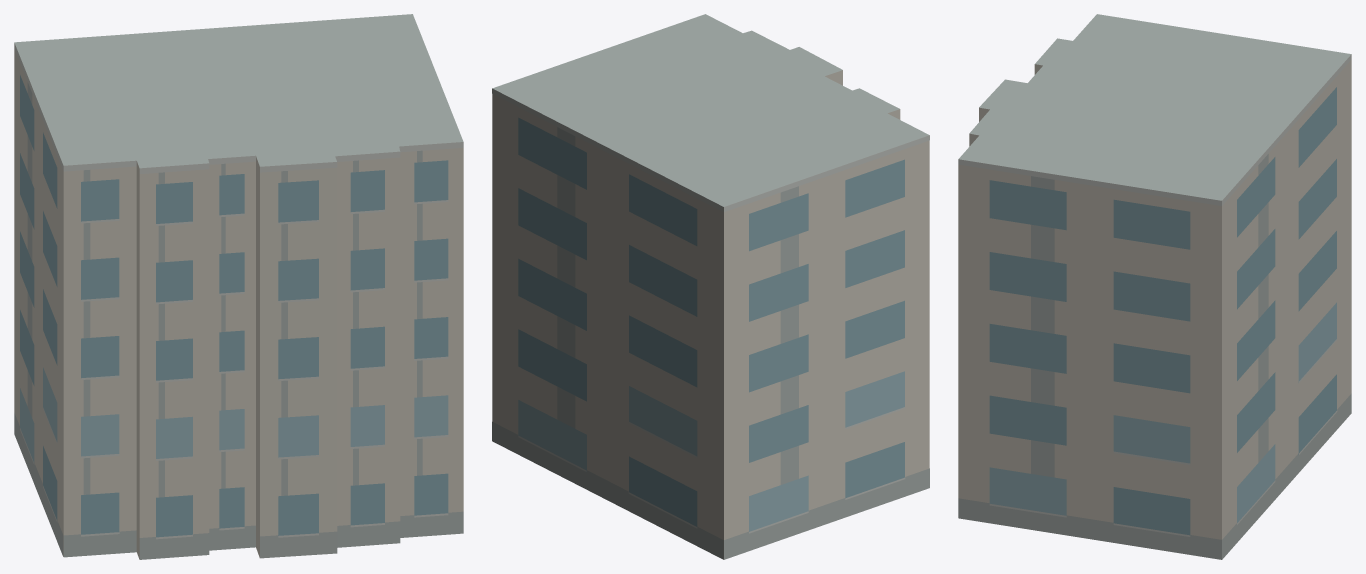
Rendered from survey-upis-32827285.glb.
The picture shows the model from 3 angles, left to right: view 1: azimuth 30°, elevation 25°; view 2: azimuth 150°, elevation 25°; view 3: azimuth 270°, elevation 25°; orthographic projection. The views are drawn at different scales.
Parts seen in each view (by area): view 1: survey-upis-32827285.tmp; view 2: survey-upis-32827285.tmp; view 3: survey-upis-32827285.tmp.
Part boxes in pixels (box(x1,y1,x2,y2)): survey-upis-32827285.tmp: box(14, 14, 463, 559); survey-upis-32827285.tmp: box(492, 14, 929, 559); survey-upis-32827285.tmp: box(958, 14, 1351, 559).
Size of the model in its own units: 18.2 by 16.3 by 16.19.
